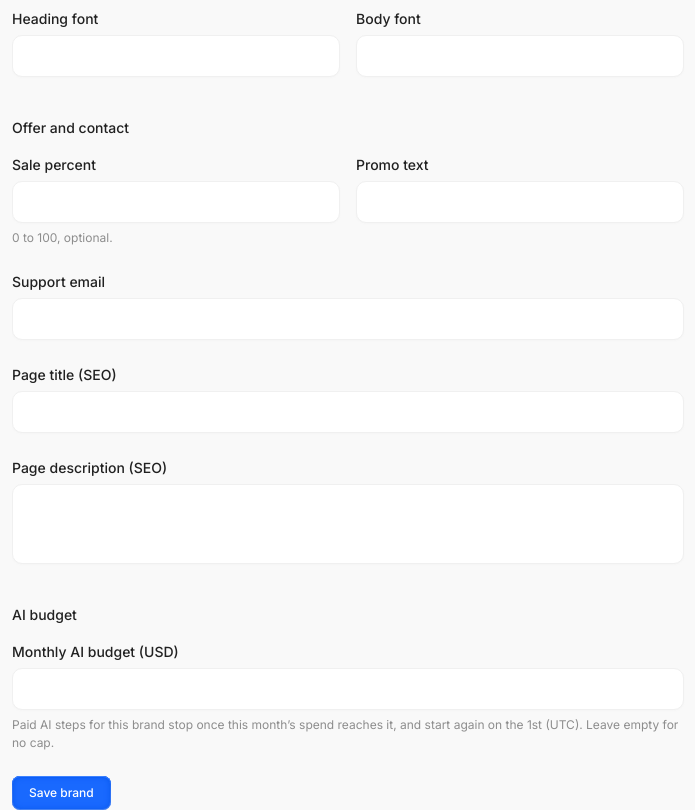
BrandForm › checks required fields in the browser before saving
This screenshot has width=695, height=810.
(page scrolled)
Click the button "Save brand" at (61, 793), box [12, 776, 111, 809]
(page scrolled)
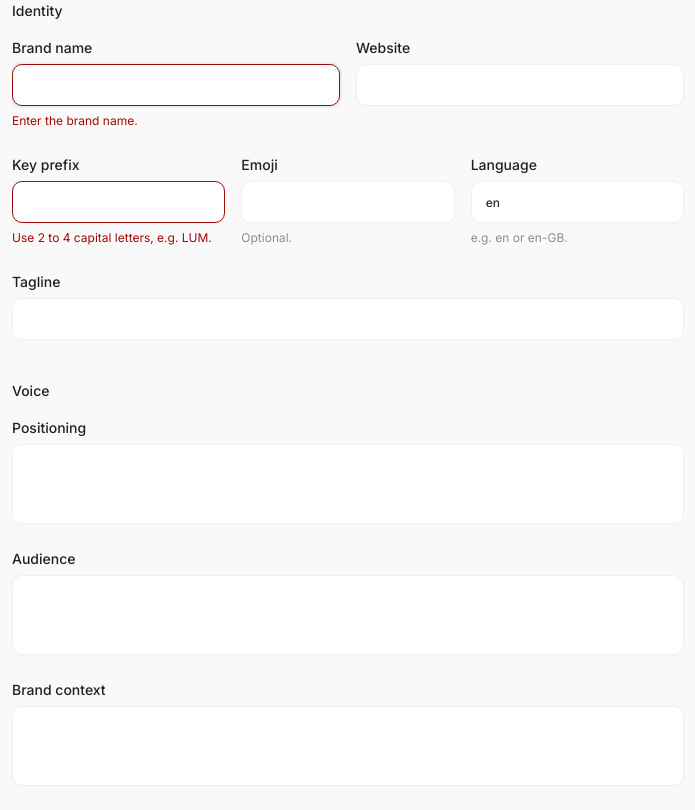
Check: the text "Enter the brand name." is shown, box [12, 113, 138, 128]
Check: the text "Use 2 to 4 capital letters, e.g. LUM." is shown, box [12, 229, 225, 247]
